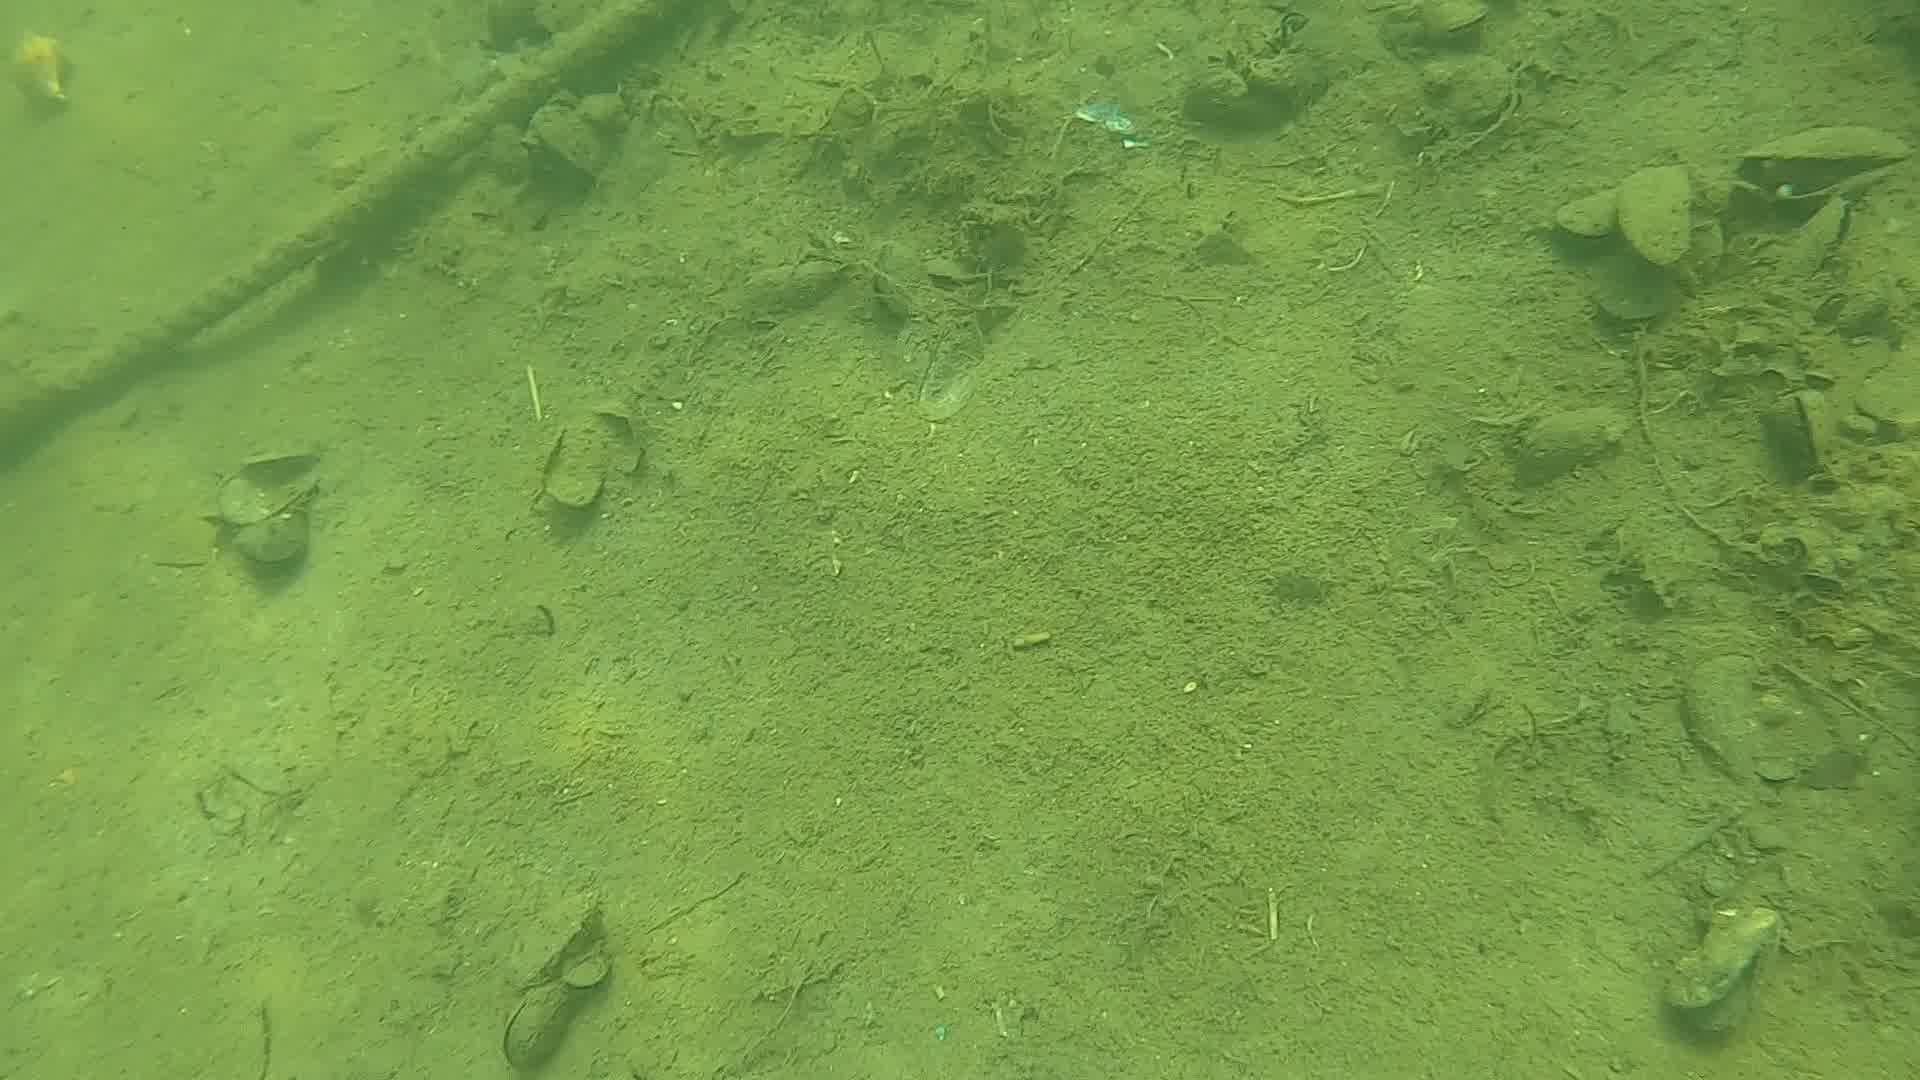rope: (0, 0, 694, 452)
